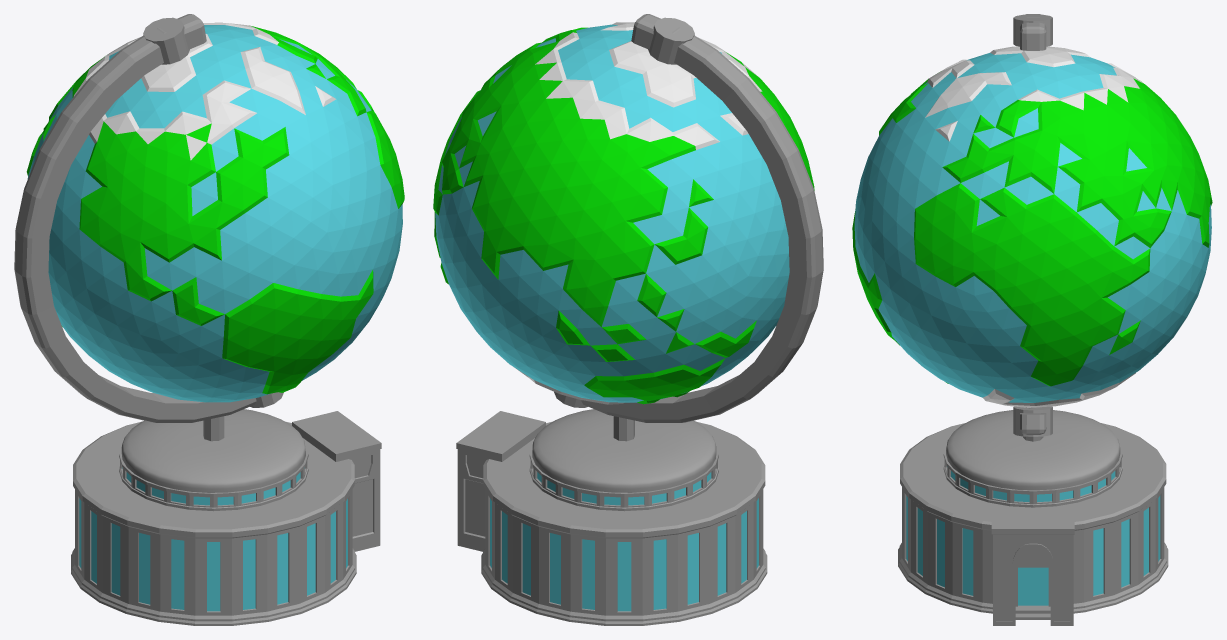
File: Globe.fbx
3 renders of one model, left to right at view 1: azimuth 30°, elevation 25°; view 2: azimuth 150°, elevation 25°; view 3: azimuth 270°, elevation 25°, orthographic. The views are drawn at different scales.
Parts seen in each view (by area): view 1: glove, Building, curve, Stand, Entrance, Stand Windows, clamp; view 2: glove, Building, curve, Stand, Entrance, Stand Windows, clamp; view 3: glove, Building, Stand, Entrance, Stand Windows, curve, clamp.
Part boxes in pixels (<box>): glove: <box>26,22,404,402</box>; Building: <box>71,421,356,625</box>; curve: <box>14,14,256,422</box>; Stand: <box>121,409,305,492</box>; Entrance: <box>292,411,381,551</box>; Stand Windows: <box>119,443,308,511</box>; clamp: <box>143,17,283,407</box>; glove: <box>433,22,814,404</box>; Building: <box>481,421,767,625</box>; curve: <box>581,14,823,422</box>; Stand: <box>532,409,716,492</box>; Entrance: <box>456,411,545,551</box>; Stand Windows: <box>529,444,718,511</box>; clamp: <box>554,17,694,407</box>; glove: <box>852,46,1212,407</box>; Building: <box>898,423,1168,613</box>; Stand: <box>946,410,1120,490</box>; Entrance: <box>991,508,1074,625</box>; Stand Windows: <box>943,444,1122,507</box>; curve: <box>1020,14,1046,434</box>; clamp: <box>1013,14,1052,436</box>.
Size of the model in its own units: 440 by 645 by 402.
